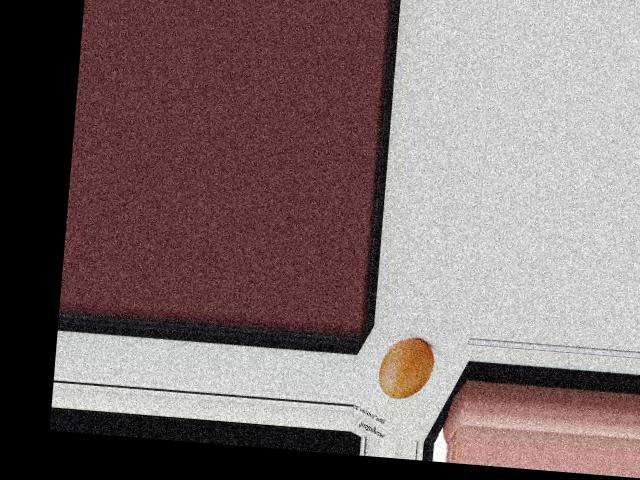egg: (378, 335, 436, 401)
